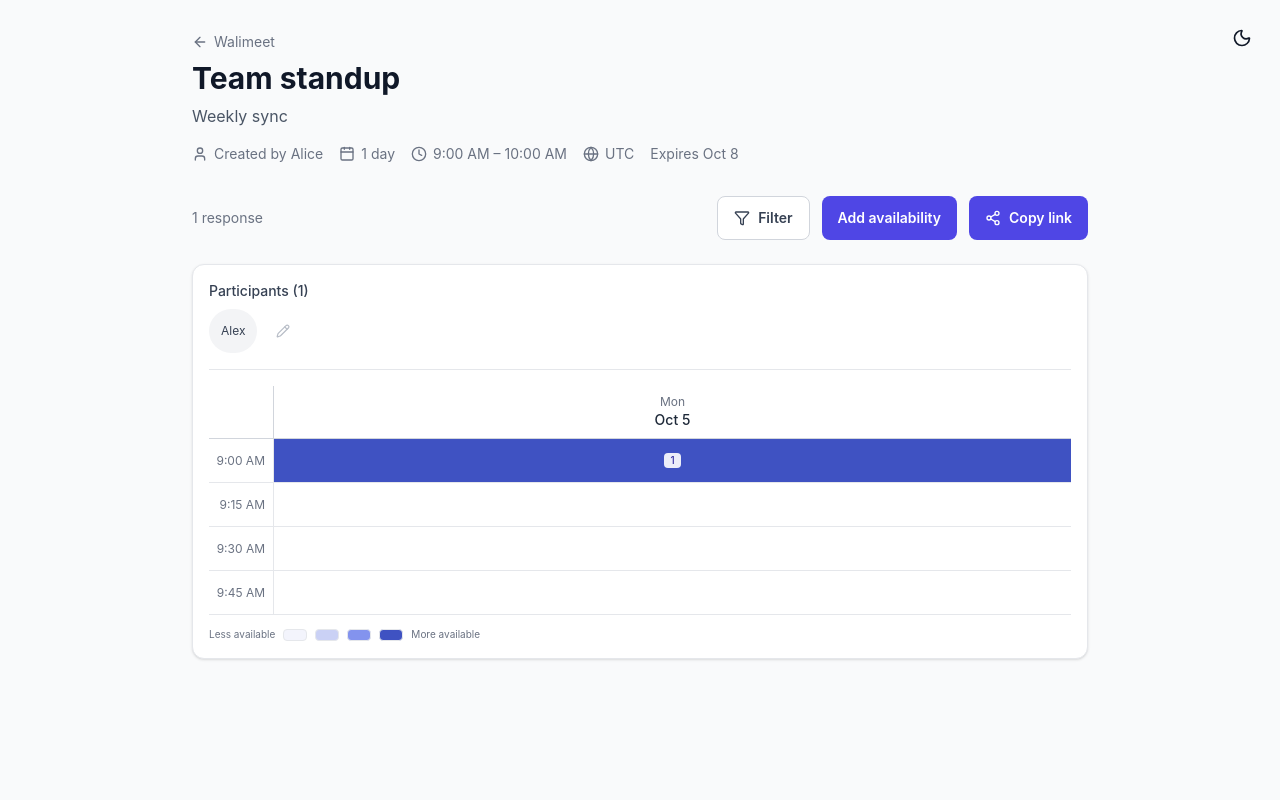
Test case: participant inspection › clears the pin when Stop viewing is pressed
The width and height of the screenshot is (1280, 800).
Expected: the heading "Team standup" is shown, [192, 60, 400, 96]
What coordinates should you click on to do the following:
click the button "Alex"
I would click on:
 (233, 331)
Its box is [209, 309, 258, 353].
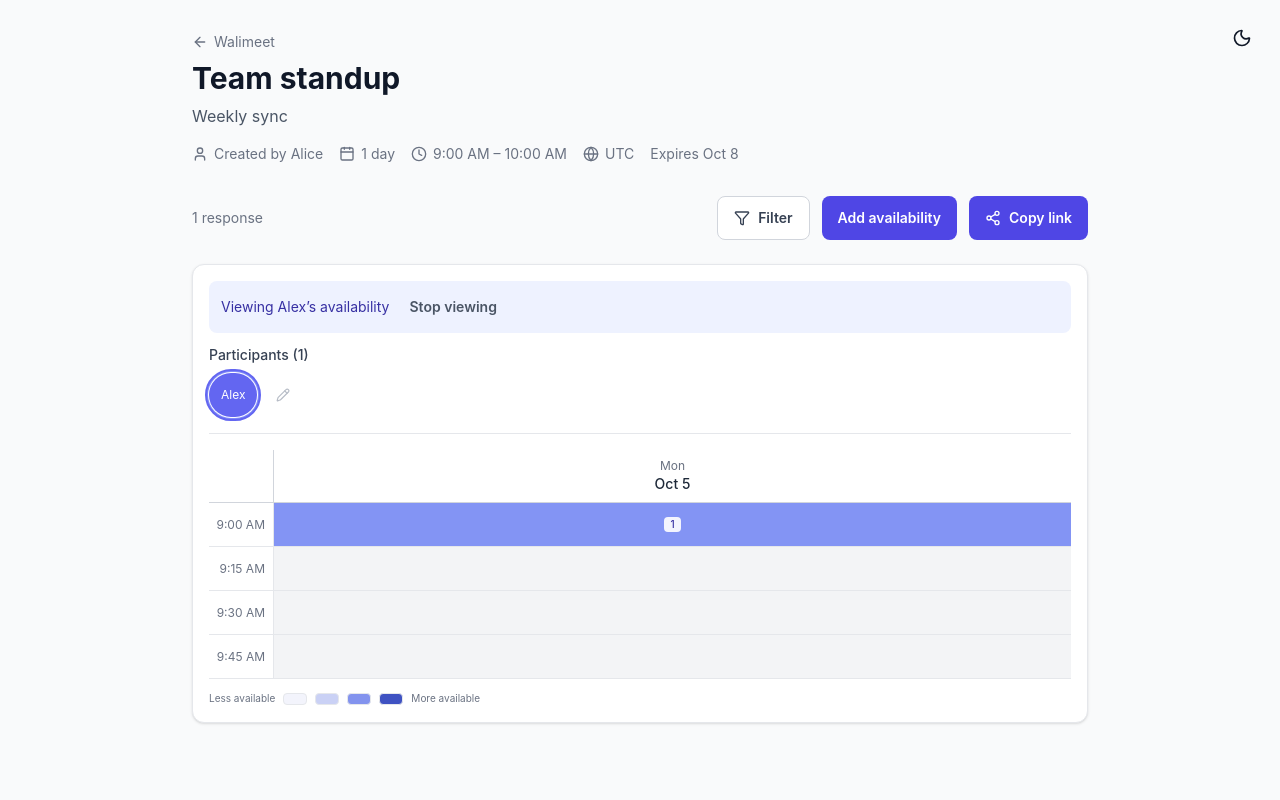
What coordinates should you click on to do the following:
click the button "Stop viewing"
I would click on:
 (453, 307)
Its box is [398, 289, 509, 325].
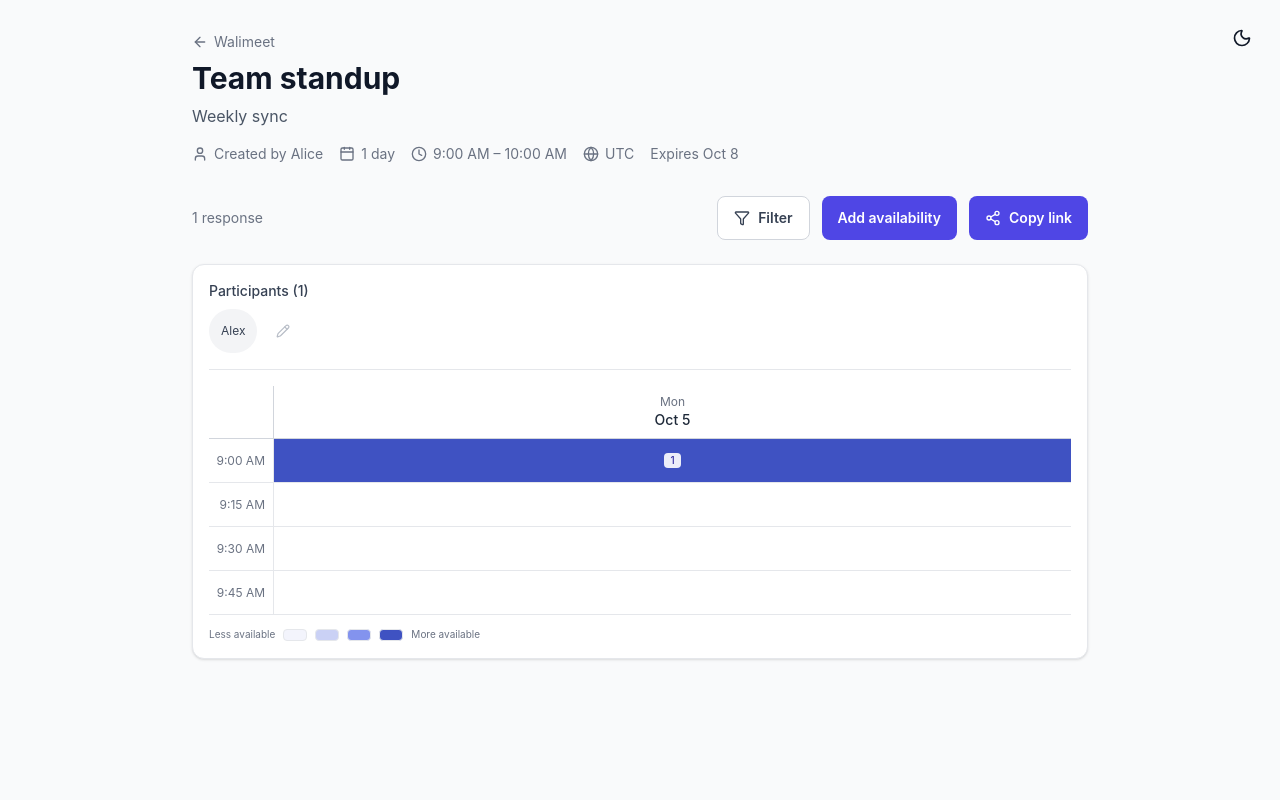
Expected: the text "Viewing Alex" is gone
